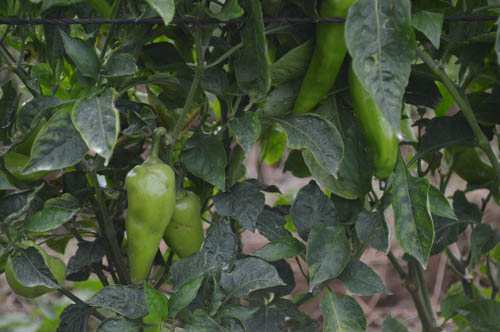ChiliPepper: (294, 2, 354, 125), (121, 164, 174, 289), (349, 67, 397, 179), (171, 193, 205, 260)
